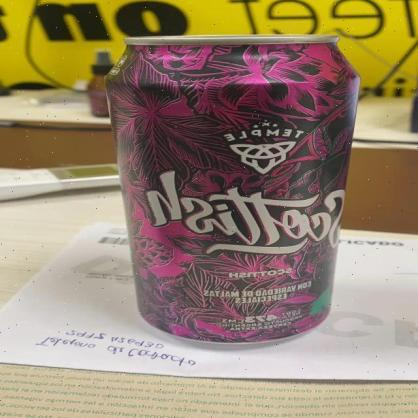can: (105, 31, 361, 345)
